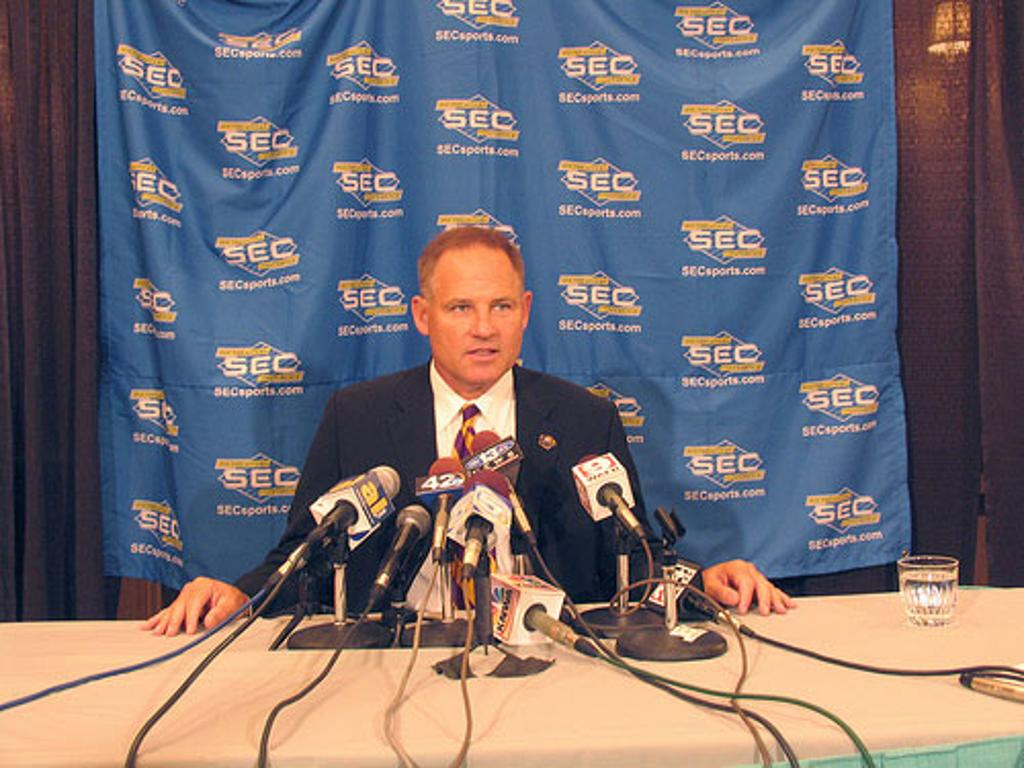face: (428, 242, 522, 382)
